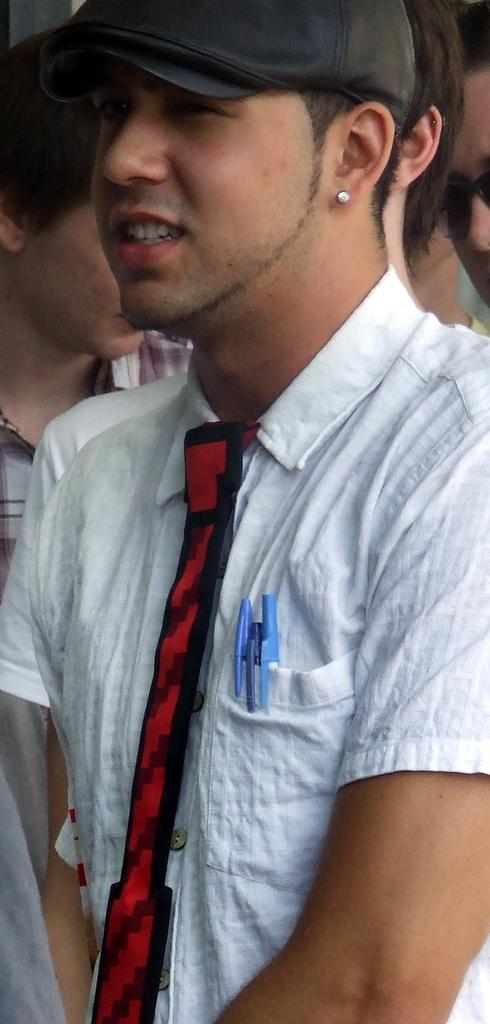Hat: (39, 0, 418, 103)
